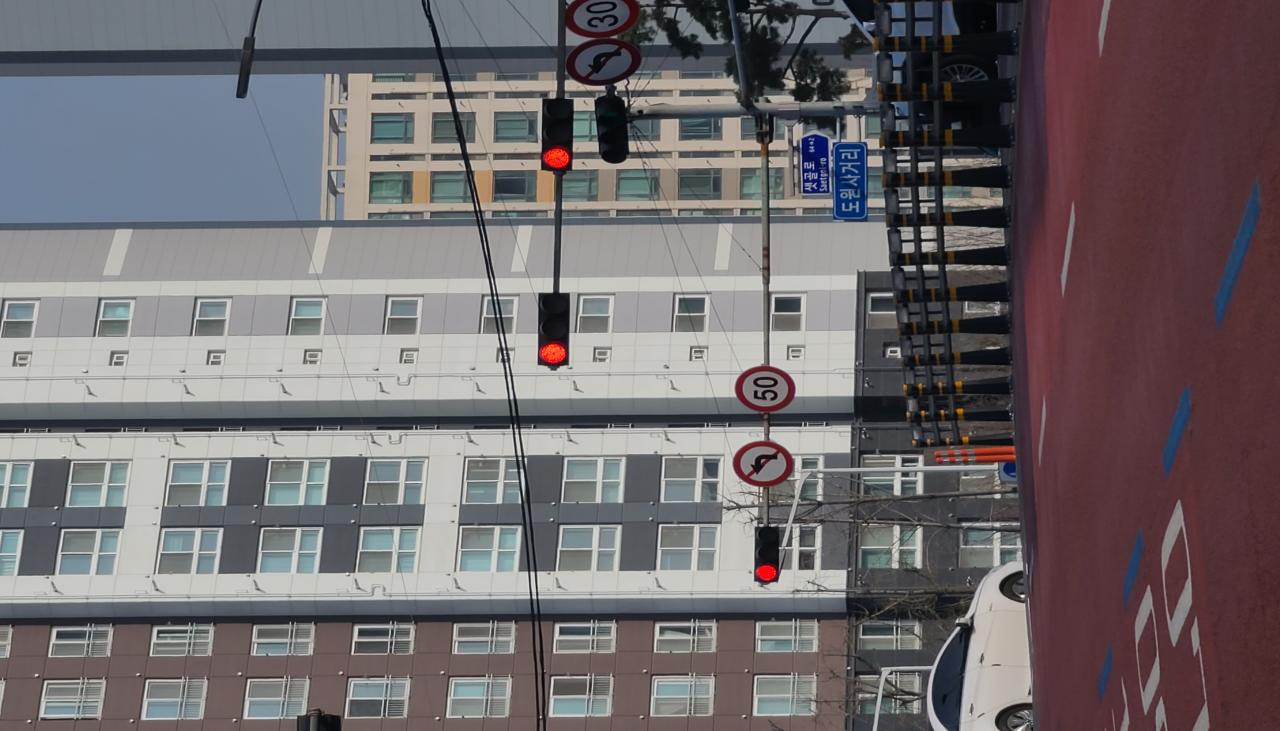Green Light: (800, 455, 821, 475)
Red Light: (481, 409, 509, 432), (738, 412, 766, 434), (197, 576, 220, 592)
